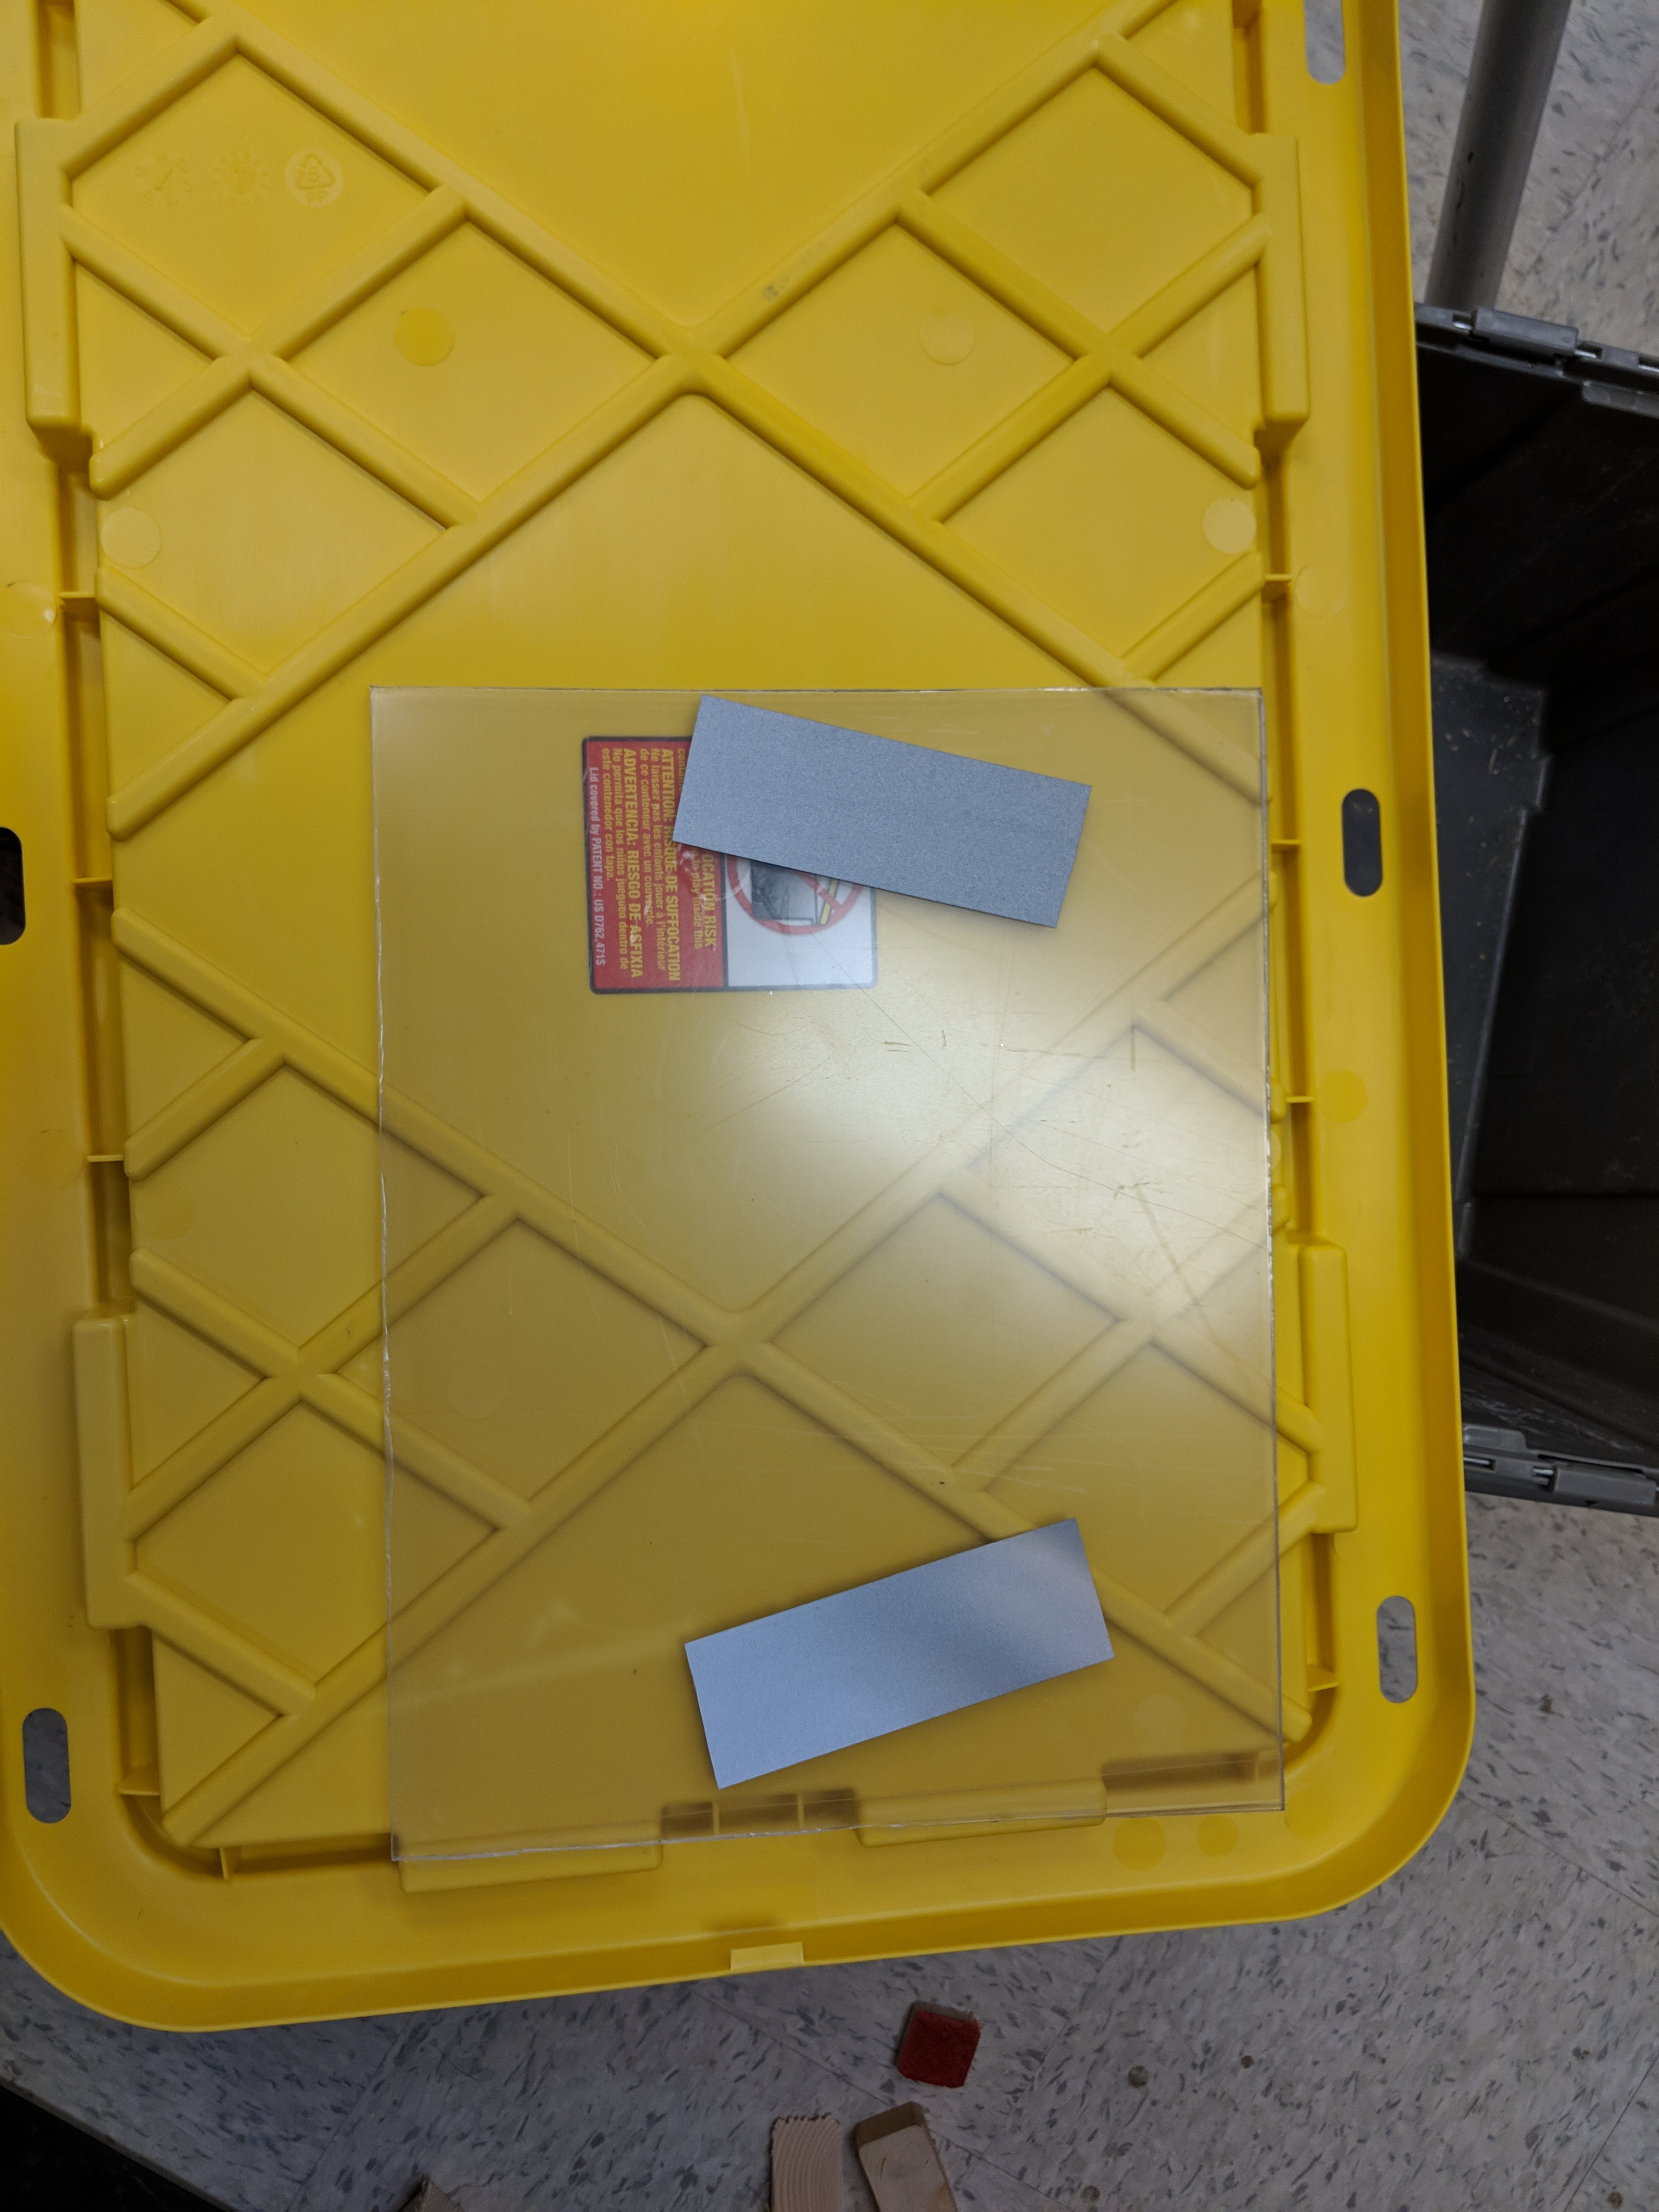vision_target: (650, 690, 1148, 1813)
